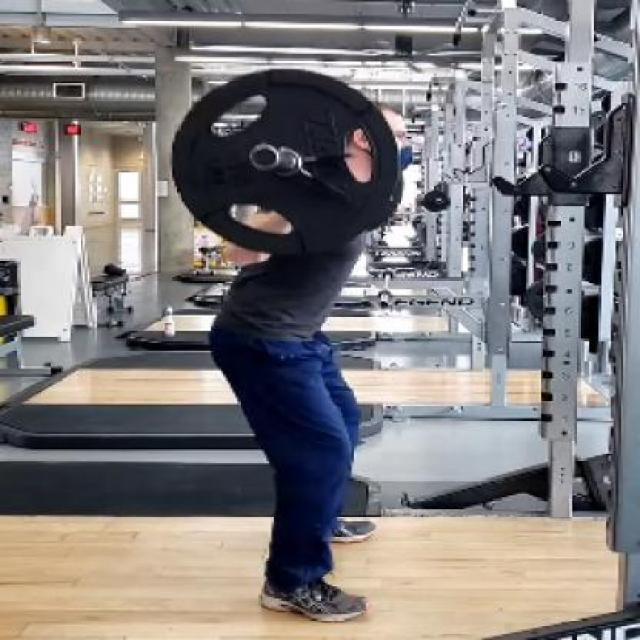Barbell: (248, 140, 284, 173)
